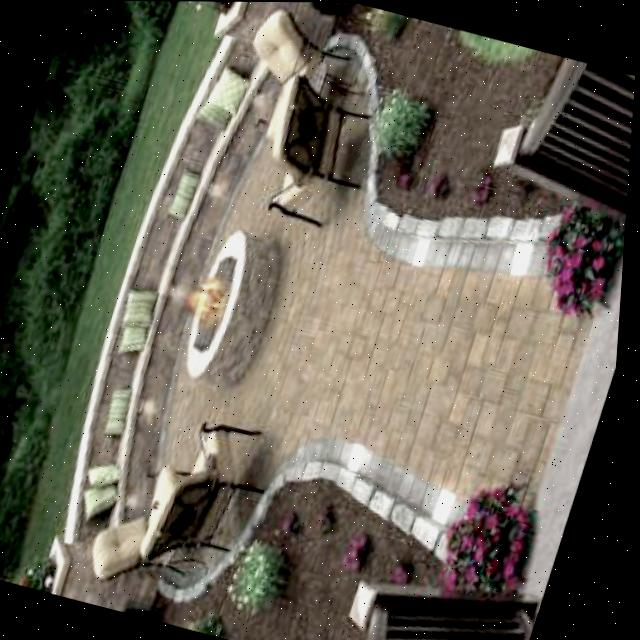Smoke: (153, 263, 233, 327)
